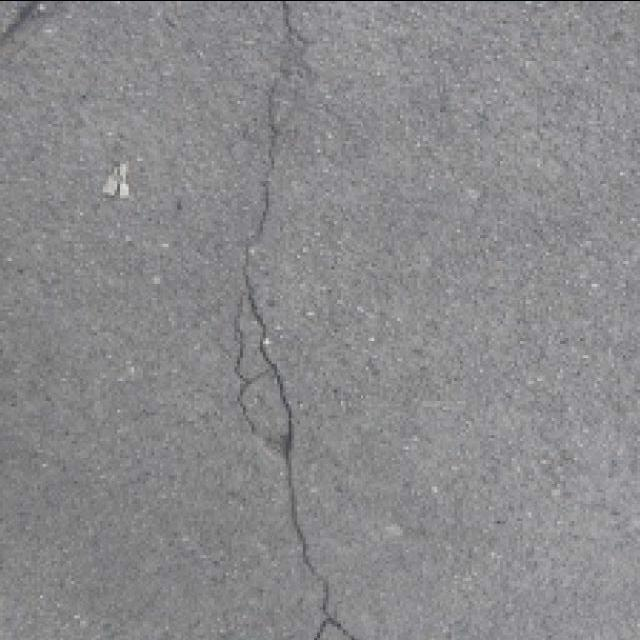SurfaceCrack: (190, 0, 384, 640)
